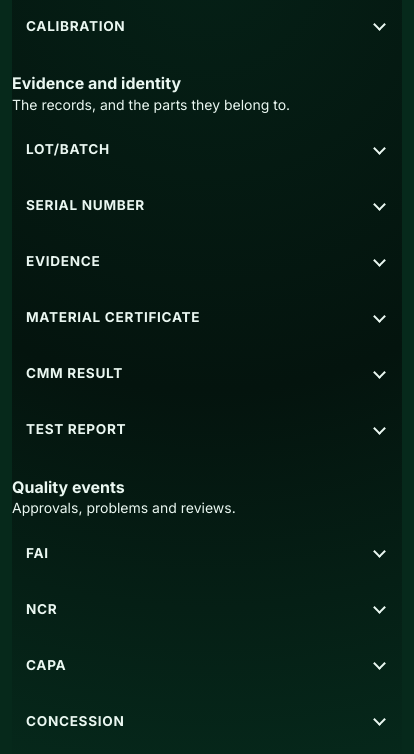
Test case: QualityGraph › gives phones every entity as an expandable item with its summary in the page
The image size is (414, 754).
(page scrolled)
Click the button "FAI": (37, 553) [12, 530, 402, 578]
(page scrolled)
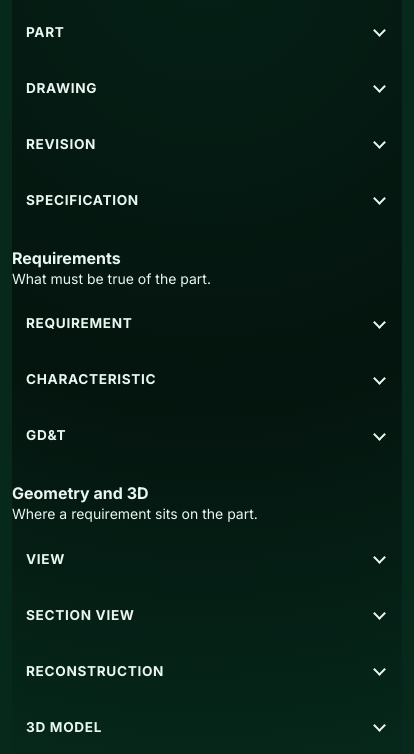
Expected: the button "Characteristic" is collapsed, [12, 356, 402, 404]
